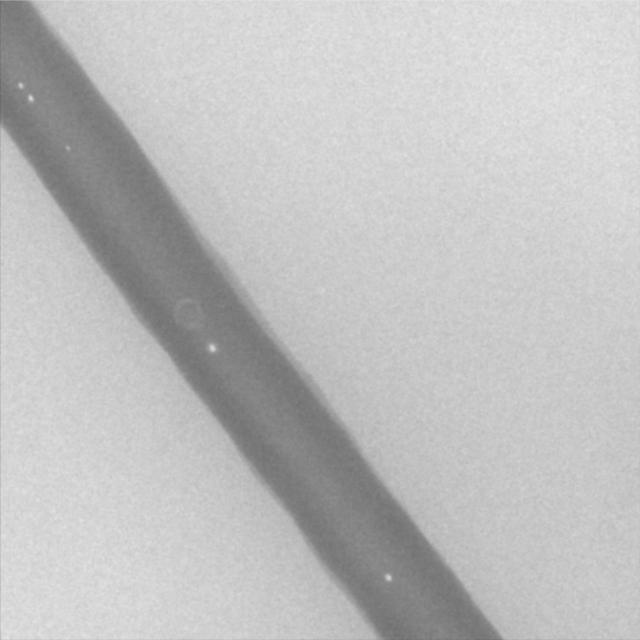air hole: (206, 341, 217, 354), (382, 571, 393, 583), (25, 91, 35, 103), (63, 142, 71, 152), (16, 80, 23, 89)
hollow bead: (172, 295, 206, 332)
